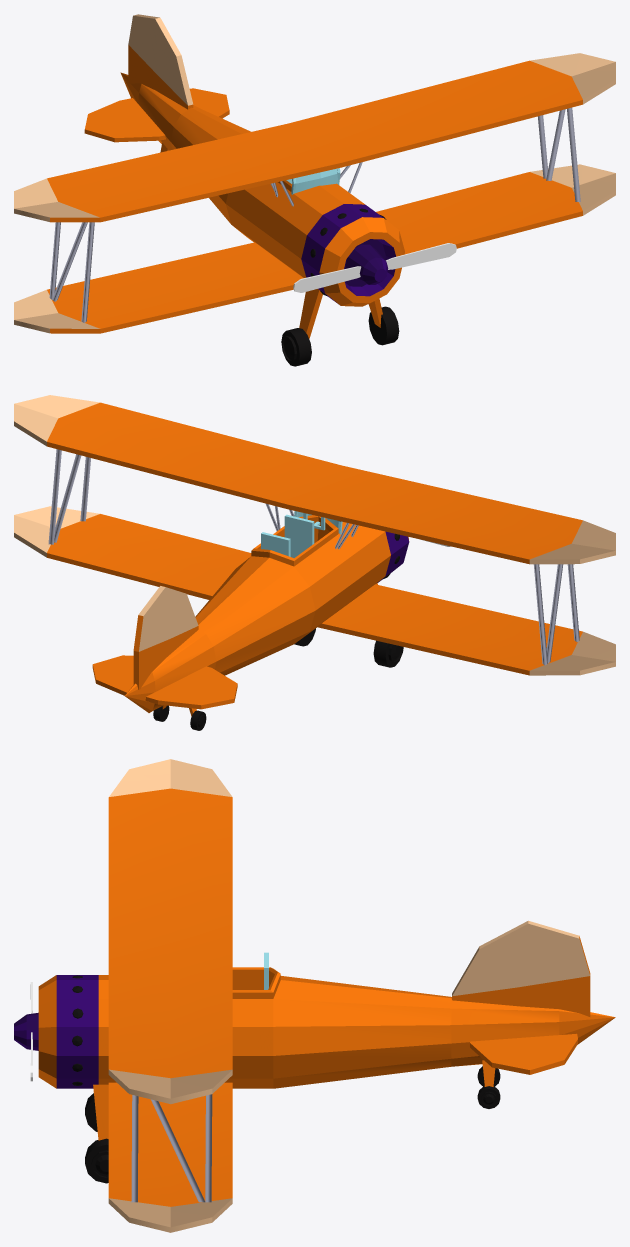
File: Airplane.glb
3 views of the same model, one above another, from view 1: azimuth 30°, elevation 25°; view 2: azimuth 150°, elevation 25°; view 3: azimuth 270°, elevation 25° (orthographic). The views are drawn at different scales.
Visible parts, largest first — view 1: Airplane, Propeller; view 2: Airplane; view 3: Airplane.
Boxes of the visible parts, x1=… form: Airplane: x1=14, y1=14, x2=615, y2=366; Propeller: x1=293, y1=243, x2=456, y2=292; Airplane: x1=14, y1=395, x2=615, y2=730; Airplane: x1=14, y1=759, x2=615, y2=1232.
Size of the model in its own units: 26 by 8.32 by 19.47.
2 materials, 1 textured.
